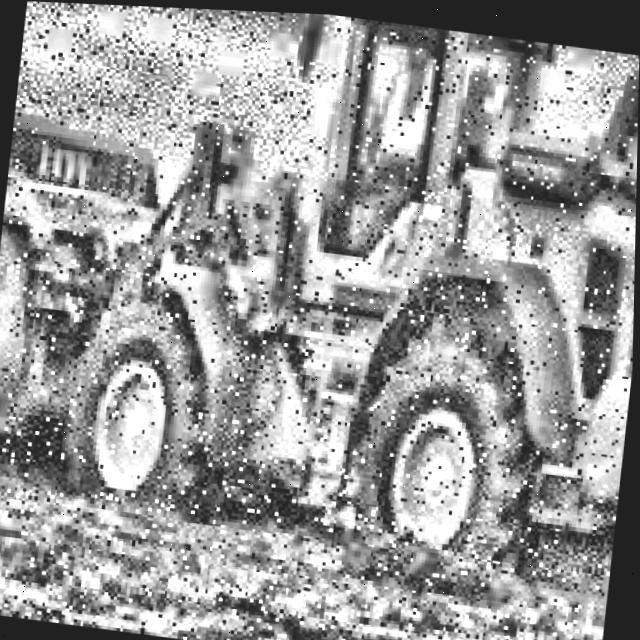buldozerpayloadergrader: (0, 0, 640, 615)
